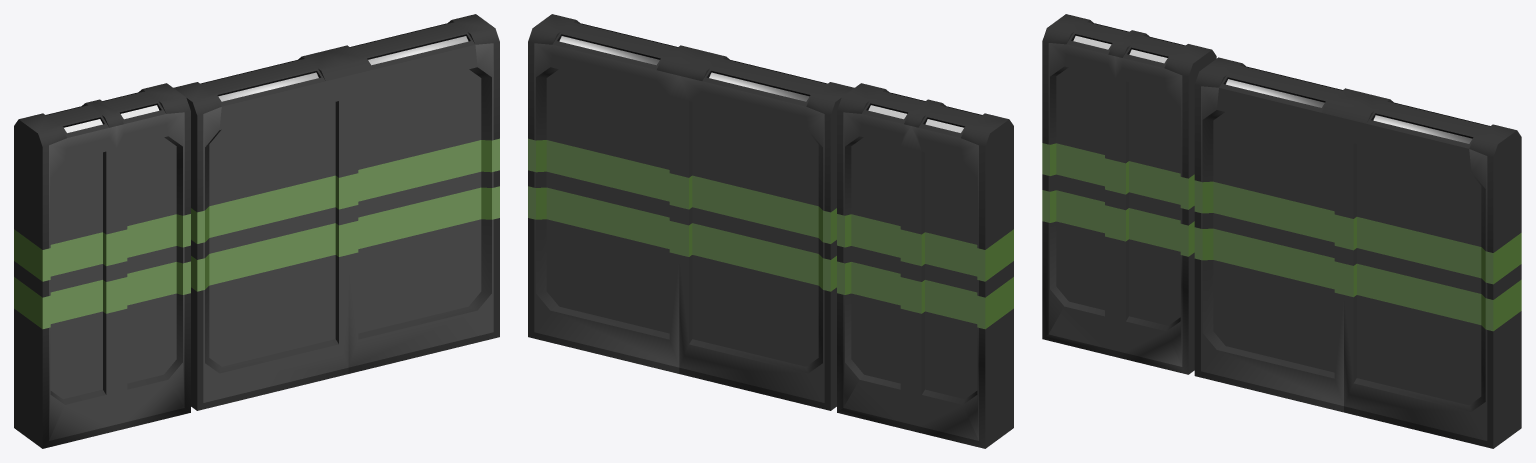
Rendered from airlocks classic.fbx.
The picture shows the model from 3 angles, left to right: view 1: azimuth 30°, elevation 25°; view 2: azimuth 150°, elevation 25°; view 3: azimuth 330°, elevation 25°; orthographic projection.
Parts seen in each view (by area): view 1: Airlock Double Classic Left, Airlock Double Classic Right, Airlock Classic Left, Airlock Classic Right; view 2: Airlock Double Classic Left, Airlock Double Classic Right, Airlock Classic Left, Airlock Classic Right; view 3: Airlock Double Classic Right, Airlock Double Classic Left, Airlock Classic Right, Airlock Classic Left.
Part boxes in pixels (left/top/right/bottom): Airlock Double Classic Left: left=173, top=51, right=348, bottom=410; Airlock Double Classic Right: left=325, top=14, right=499, bottom=373; Airlock Classic Left: left=14, top=101, right=116, bottom=448; Airlock Classic Right: left=93, top=83, right=190, bottom=430; Airlock Double Classic Left: left=679, top=51, right=854, bottom=410; Airlock Double Classic Right: left=528, top=14, right=702, bottom=373; Airlock Classic Left: left=911, top=101, right=1013, bottom=448; Airlock Classic Right: left=837, top=83, right=934, bottom=430; Airlock Double Classic Right: left=1344, top=94, right=1521, bottom=448; Airlock Double Classic Left: left=1194, top=57, right=1367, bottom=412; Airlock Classic Right: left=1115, top=32, right=1216, bottom=374; Airlock Classic Left: left=1042, top=14, right=1138, bottom=356.
Size of the model in its own units: 2.96 by 1.93 by 0.3208.
